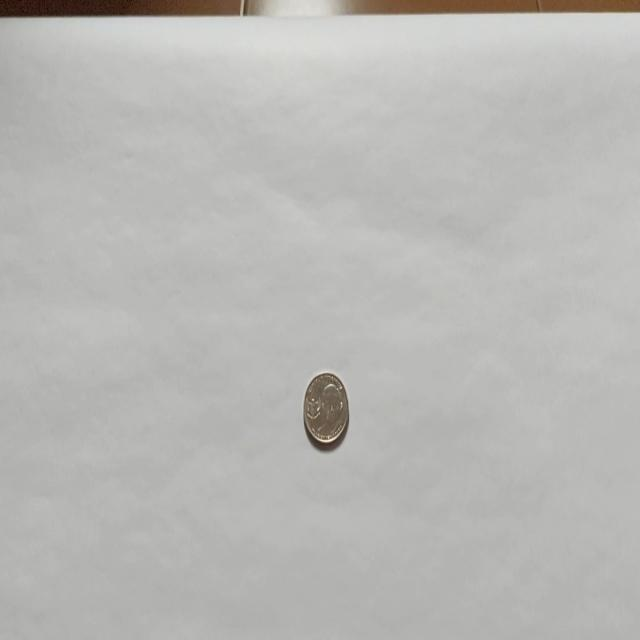seribu rupiah koin: (302, 370, 349, 448)
